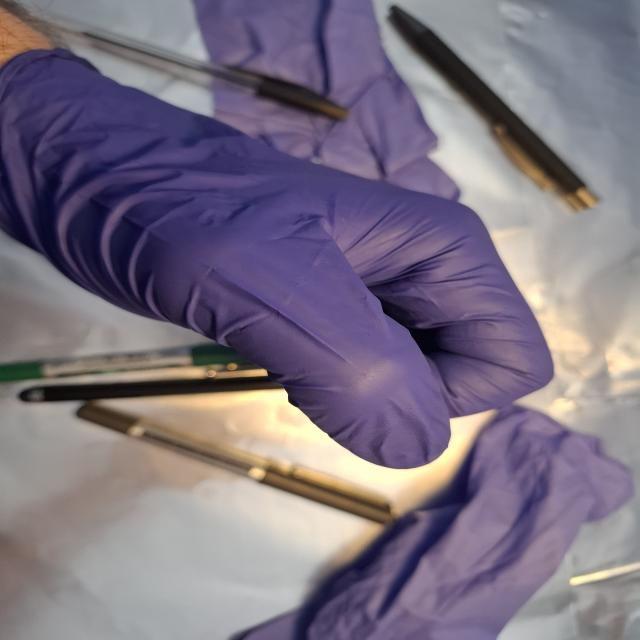glove_on: (0, 41, 561, 469)
